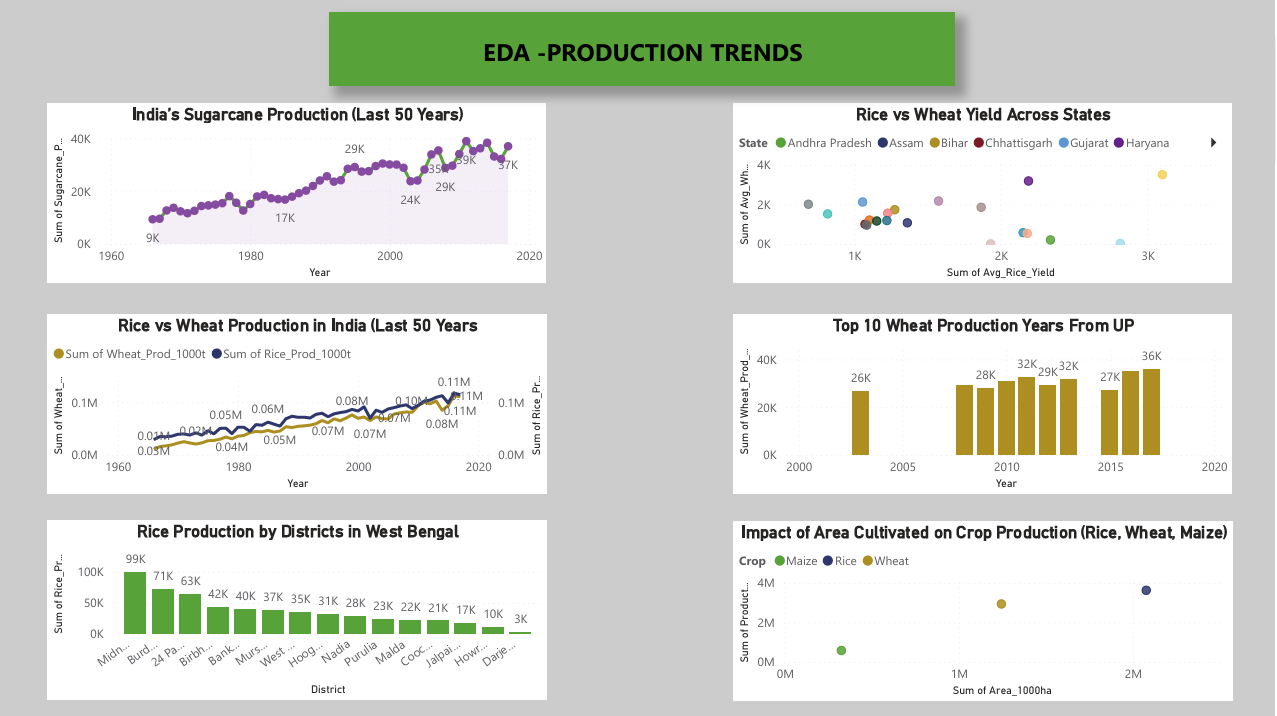

This screenshot's page, from the dashboard's own definition file:
{"tool":"powerbi","page":{"name":"Production Trends","canvas":[1280,720],"ordinal":1},"visuals":[{"type":"lineChart","title":"Rice vs Wheat Production in India (Last 50 Years","fields":{"Category":["agri_cleaned.Year"],"Y":["Sum(agri_cleaned.Wheat_Prod_1000t)"],"Y2":["Sum(agri_cleaned.Rice_Prod_1000t)"]},"box":[50.8,314.2,500,179.8],"z":0},{"type":"columnChart","title":"Rice Production by Districts in West Bengal","fields":{"Category":["agri_cleaned.District"],"Y":["Sum(agri_cleaned.Rice_Prod_1000t)"]},"box":[50.8,520.1,500,179.8],"z":1000},{"type":"columnChart","title":"Top 10 Wheat Production Years From UP","fields":{"Category":["agri_cleaned.Year"],"Y":["Sum(agri_cleaned.Wheat_Prod_1000t)"]},"box":[736.9,314.2,499.5,179.8],"z":2000},{"type":"lineChart","title":"India’s Sugarcane Production (Last 50 Years)","fields":{"Category":["agri_cleaned.Year"],"Y":["Sum(agri_cleaned.Sugarcane_Prod_1000t)"]},"box":[50.8,102.9,499.5,179.8],"z":3000},{"type":"scatterChart","title":"Impact of Area Cultivated on Crop Production (Rice, Wheat, Maize)","fields":{"X":["Sum(Crop_Prod_Area.Area_1000ha)"],"Y":["Sum(Crop_Prod_Area.Production_1000t)"],"Series":["Crop_Prod_Area.Crop"]},"box":[736.9,521.4,500,179.8],"z":4000},{"type":"scatterChart","title":"Rice vs Wheat Yield Across States","fields":{"X":["Sum(State_Yield.Avg_Rice_Yield)"],"Y":["Sum(State_Yield.Avg_Wheat_Yield)"],"Series":["State_Yield.State"]},"box":[736.9,102.9,499.5,179.8],"z":5000},{"type":"textbox","box":[333.4,12.3,625.7,74.1],"z":5001}]}

Visuals, with their boxes in screenshot pixels (x1, y1, x2, y2), scaled from the page's 1280x720 canvas onto the 1277x716 screenshot:
"Rice vs Wheat Production in India (Last 50 Years" lineChart: box=[51, 312, 550, 491]
"Rice Production by Districts in West Bengal" columnChart: box=[51, 517, 550, 696]
"Top 10 Wheat Production Years From UP" columnChart: box=[735, 312, 1234, 491]
"India’s Sugarcane Production (Last 50 Years)" lineChart: box=[51, 102, 549, 281]
"Impact of Area Cultivated on Crop Production (Rice, Wheat, Maize)" scatterChart: box=[735, 519, 1234, 697]
"Rice vs Wheat Yield Across States" scatterChart: box=[735, 102, 1234, 281]
textbox: box=[333, 12, 957, 86]
